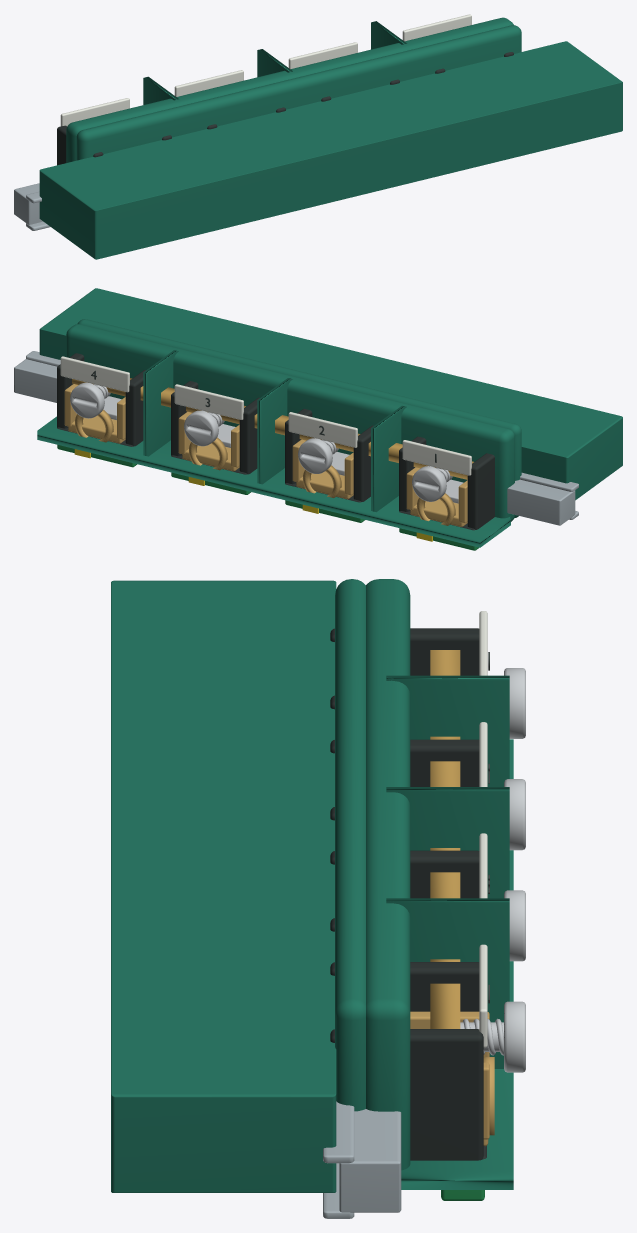
Rendered from earthbar_default.glb.
The picture shows the model from 3 angles, top to bottom: view 1: azimuth 30°, elevation 25°; view 2: azimuth 150°, elevation 25°; view 3: azimuth 270°, elevation 25°; orthographic projection. The views are drawn at different scales.
Visible parts, largest first — view 1: part:body, part:terminals · Original 9463cfd1, part:mounting · Original 2a8198d3, Moulded terminal legend pad, Moulded terminal legend pad.003, Moulded terminal legend pad.001, Moulded terminal legend pad.002, detail:terminal-clamp:1 · Detail moulded engineering polymer; view 2: part:terminals · Original 9463cfd1, part:body, part:mounting · Original 2a8198d3, detail:terminal-clamp:1 · Detail moulded engineering polymer, detail:terminal-clamp:3 · Detail moulded engineering polymer, detail:terminal-clamp:4 · Detail moulded engineering polymer, detail:terminal-clamp:2 · Detail moulded engineering polymer, detail:terminal-clamp:2 · Detail machined brass, detail:terminal-clamp:1 · Detail machined brass, detail:terminal-clamp:4 · Detail machined brass, detail:terminal-clamp:3 · Detail machined brass, Moulded terminal legend pad (+8 smaller); view 3: part:body, part:terminals · Original 9463cfd1, detail:terminal-clamp:4 · Detail moulded engineering polymer, part:mounting · Original 2a8198d3, part:terminals.001, detail:terminal-clamp:3 · Detail moulded engineering polymer, detail:terminal-clamp:2 · Detail moulded engineering polymer, detail:terminal-clamp:1 · Detail moulded engineering polymer, detail:terminal-clamp:4 · Detail zinc plated fixing, detail:terminal-clamp:4 · Detail machined brass, detail:terminal-clamp:3 · Detail zinc plated fixing, detail:terminal-clamp:2 · Detail zinc plated fixing (+2 smaller).
Part boxes in pixels (x1,y1,x2,y2): part:body: [39, 41, 622, 259]; part:terminals · Original 9463cfd1: [66, 17, 521, 162]; part:mounting · Original 2a8198d3: [14, 183, 50, 230]; Moulded terminal legend pad: [60, 98, 129, 126]; Moulded terminal legend pad.003: [402, 14, 471, 41]; Moulded terminal legend pad.001: [174, 70, 243, 96]; Moulded terminal legend pad.002: [288, 42, 357, 69]; detail:terminal-clamp:1 · Detail moulded engineering polymer: [57, 125, 171, 165]; part:terminals · Original 9463cfd1: [37, 319, 521, 547]; part:body: [39, 288, 622, 500]; part:mounting · Original 2a8198d3: [14, 351, 578, 525]; detail:terminal-clamp:1 · Detail moulded engineering polymer: [399, 436, 494, 530]; detail:terminal-clamp:3 · Detail moulded engineering polymer: [171, 381, 259, 474]; detail:terminal-clamp:4 · Detail moulded engineering polymer: [57, 353, 145, 446]; detail:terminal-clamp:2 · Detail moulded engineering polymer: [285, 408, 373, 502]; detail:terminal-clamp:2 · Detail machined brass: [292, 439, 353, 499]; detail:terminal-clamp:1 · Detail machined brass: [406, 467, 467, 526]; detail:terminal-clamp:4 · Detail machined brass: [64, 384, 125, 443]; detail:terminal-clamp:3 · Detail machined brass: [178, 411, 239, 471]; Moulded terminal legend pad: [402, 440, 471, 475]; part:body: [111, 580, 336, 1192]; part:terminals · Original 9463cfd1: [335, 579, 513, 1189]; detail:terminal-clamp:4 · Detail moulded engineering polymer: [330, 962, 486, 1160]; part:mounting · Original 2a8198d3: [323, 1101, 401, 1218]; part:terminals.001: [430, 650, 460, 1028]; detail:terminal-clamp:3 · Detail moulded engineering polymer: [330, 850, 479, 931]; detail:terminal-clamp:2 · Detail moulded engineering polymer: [330, 739, 479, 820]; detail:terminal-clamp:1 · Detail moulded engineering polymer: [330, 628, 479, 709]; detail:terminal-clamp:4 · Detail zinc plated fixing: [460, 1001, 525, 1072]; detail:terminal-clamp:4 · Detail machined brass: [410, 1011, 494, 1146]; detail:terminal-clamp:3 · Detail zinc plated fixing: [504, 890, 525, 961]; detail:terminal-clamp:2 · Detail zinc plated fixing: [504, 779, 525, 850].
Bounding box in the file's own units: 0.9231 × 0.168 × 0.3032.
